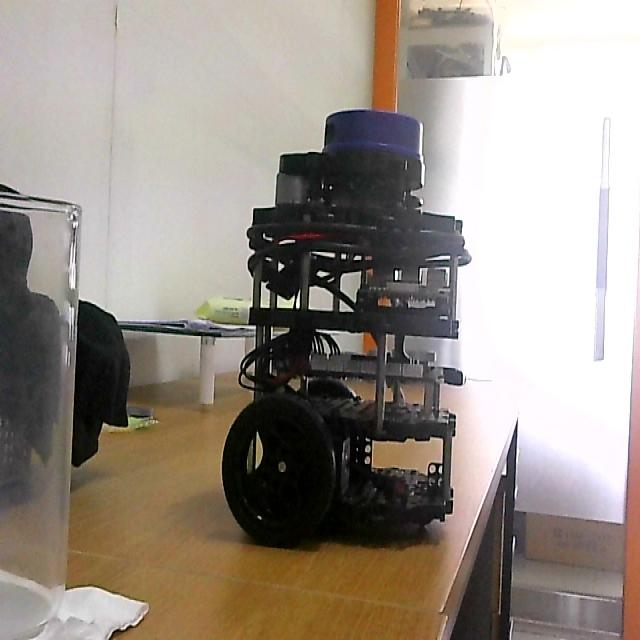turtle: (218, 103, 474, 552)
